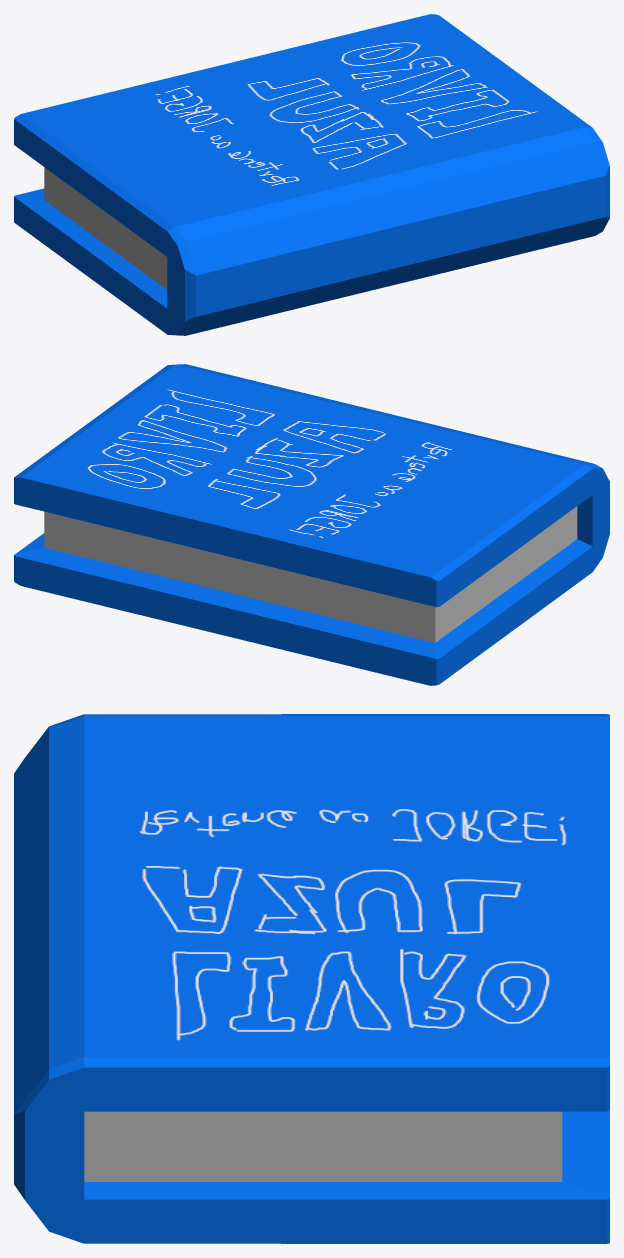
The model's file is livroazul.obj.
3 views of the same model, one above another, from view 1: azimuth 30°, elevation 25°; view 2: azimuth 150°, elevation 25°; view 3: azimuth 270°, elevation 25° (orthographic). The views are drawn at different scales.
Parts seen in each view (by area): view 1: Libro; view 2: Libro; view 3: Libro.
Boxes of the visible parts, bbox=[...] form: Libro: bbox=[14, 14, 609, 335]; Libro: bbox=[14, 364, 609, 685]; Libro: bbox=[14, 714, 609, 1243].
Bounding box in the file's own units: 2.13 × 0.5187 × 1.52.
2 materials, 2 textured.
